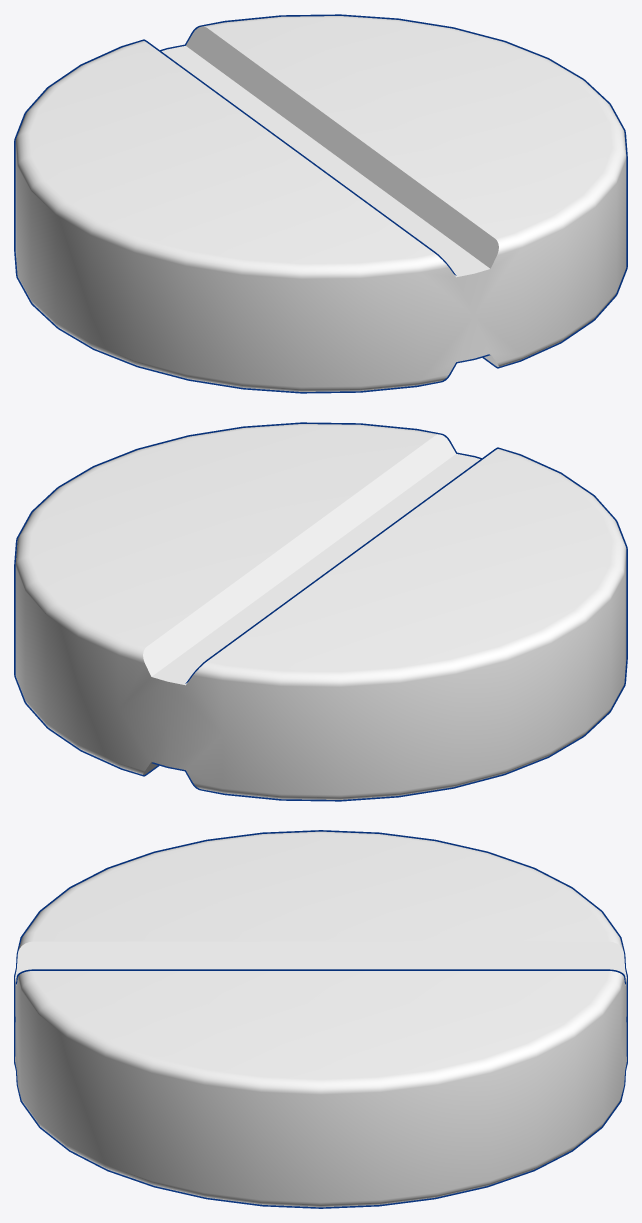
The model's file is Pills.glb.
The picture shows the model from 3 angles, top to bottom: view 1: azimuth 30°, elevation 25°; view 2: azimuth 150°, elevation 25°; view 3: azimuth 270°, elevation 25°; orthographic projection.
Visible parts, largest first — view 1: Cylinder; view 2: Cylinder; view 3: Cylinder.
Part boxes in pixels (x1,y1,x2,y2): Cylinder: (14,14,627,393); Cylinder: (14,422,627,801); Cylinder: (14,830,627,1208).
Size of the model in its own units: 1.7 by 0.394 by 1.7.
